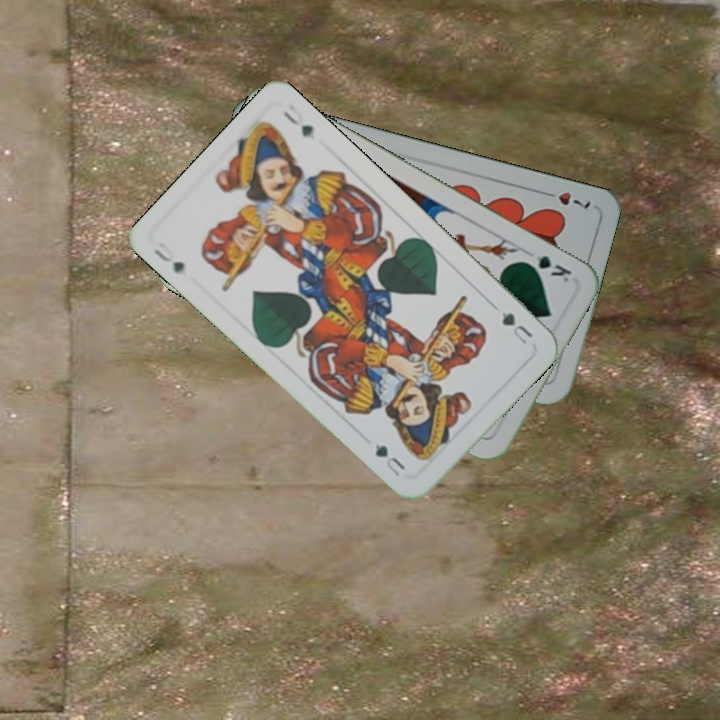GK: (518, 251, 575, 285)
GU: (497, 307, 536, 348), (149, 237, 187, 276)
H7: (537, 186, 595, 214)
